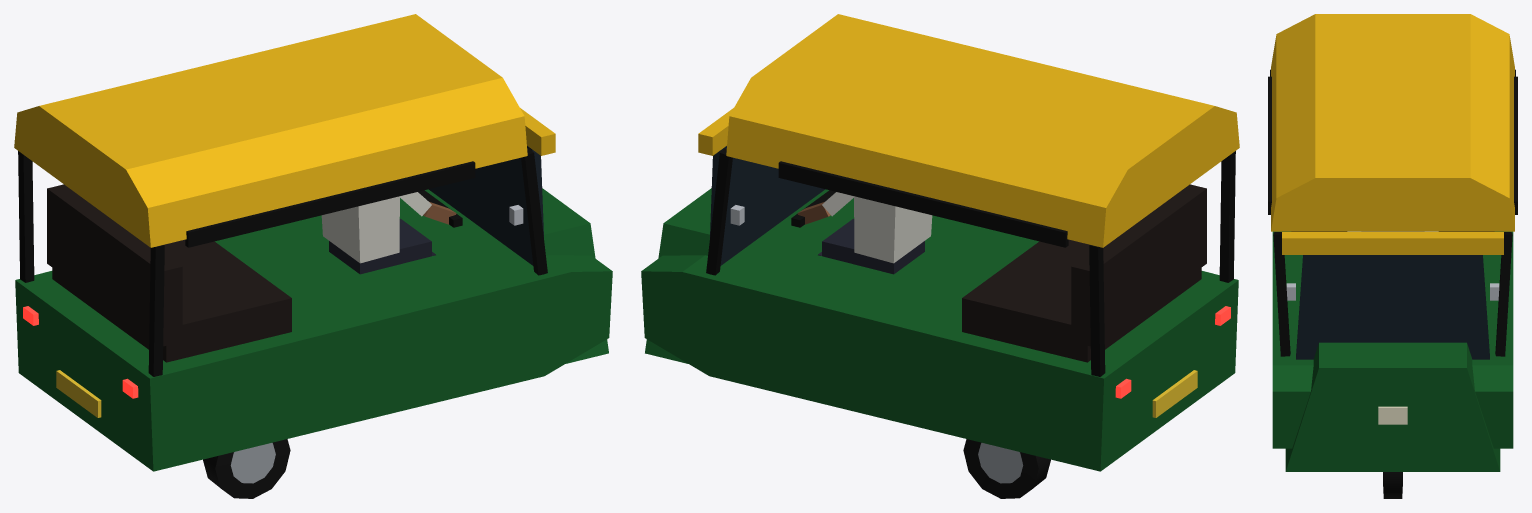
File: auto_rickshaw.glb
The picture shows the model from 3 angles, left to right: view 1: azimuth 30°, elevation 25°; view 2: azimuth 150°, elevation 25°; view 3: azimuth 270°, elevation 25°; orthographic projection. The views are drawn at different scales.
Visible parts, largest first — view 1: auto_rickshaw_body, wheel_rr; view 2: auto_rickshaw_body, wheel_rl; view 3: auto_rickshaw_body, wheel_f.002.
Part boxes in pixels (bbox=[...]): auto_rickshaw_body: bbox=[14, 14, 612, 471]; wheel_rr: bbox=[203, 439, 290, 498]; auto_rickshaw_body: bbox=[641, 14, 1239, 471]; wheel_rl: bbox=[963, 439, 1050, 498]; auto_rickshaw_body: bbox=[1268, 14, 1517, 471]; wheel_f.002: bbox=[1383, 472, 1402, 498].
Size of the model in its own units: 2.64 by 1.8 by 1.35.
Materials: 2 (1 with a texture image).
